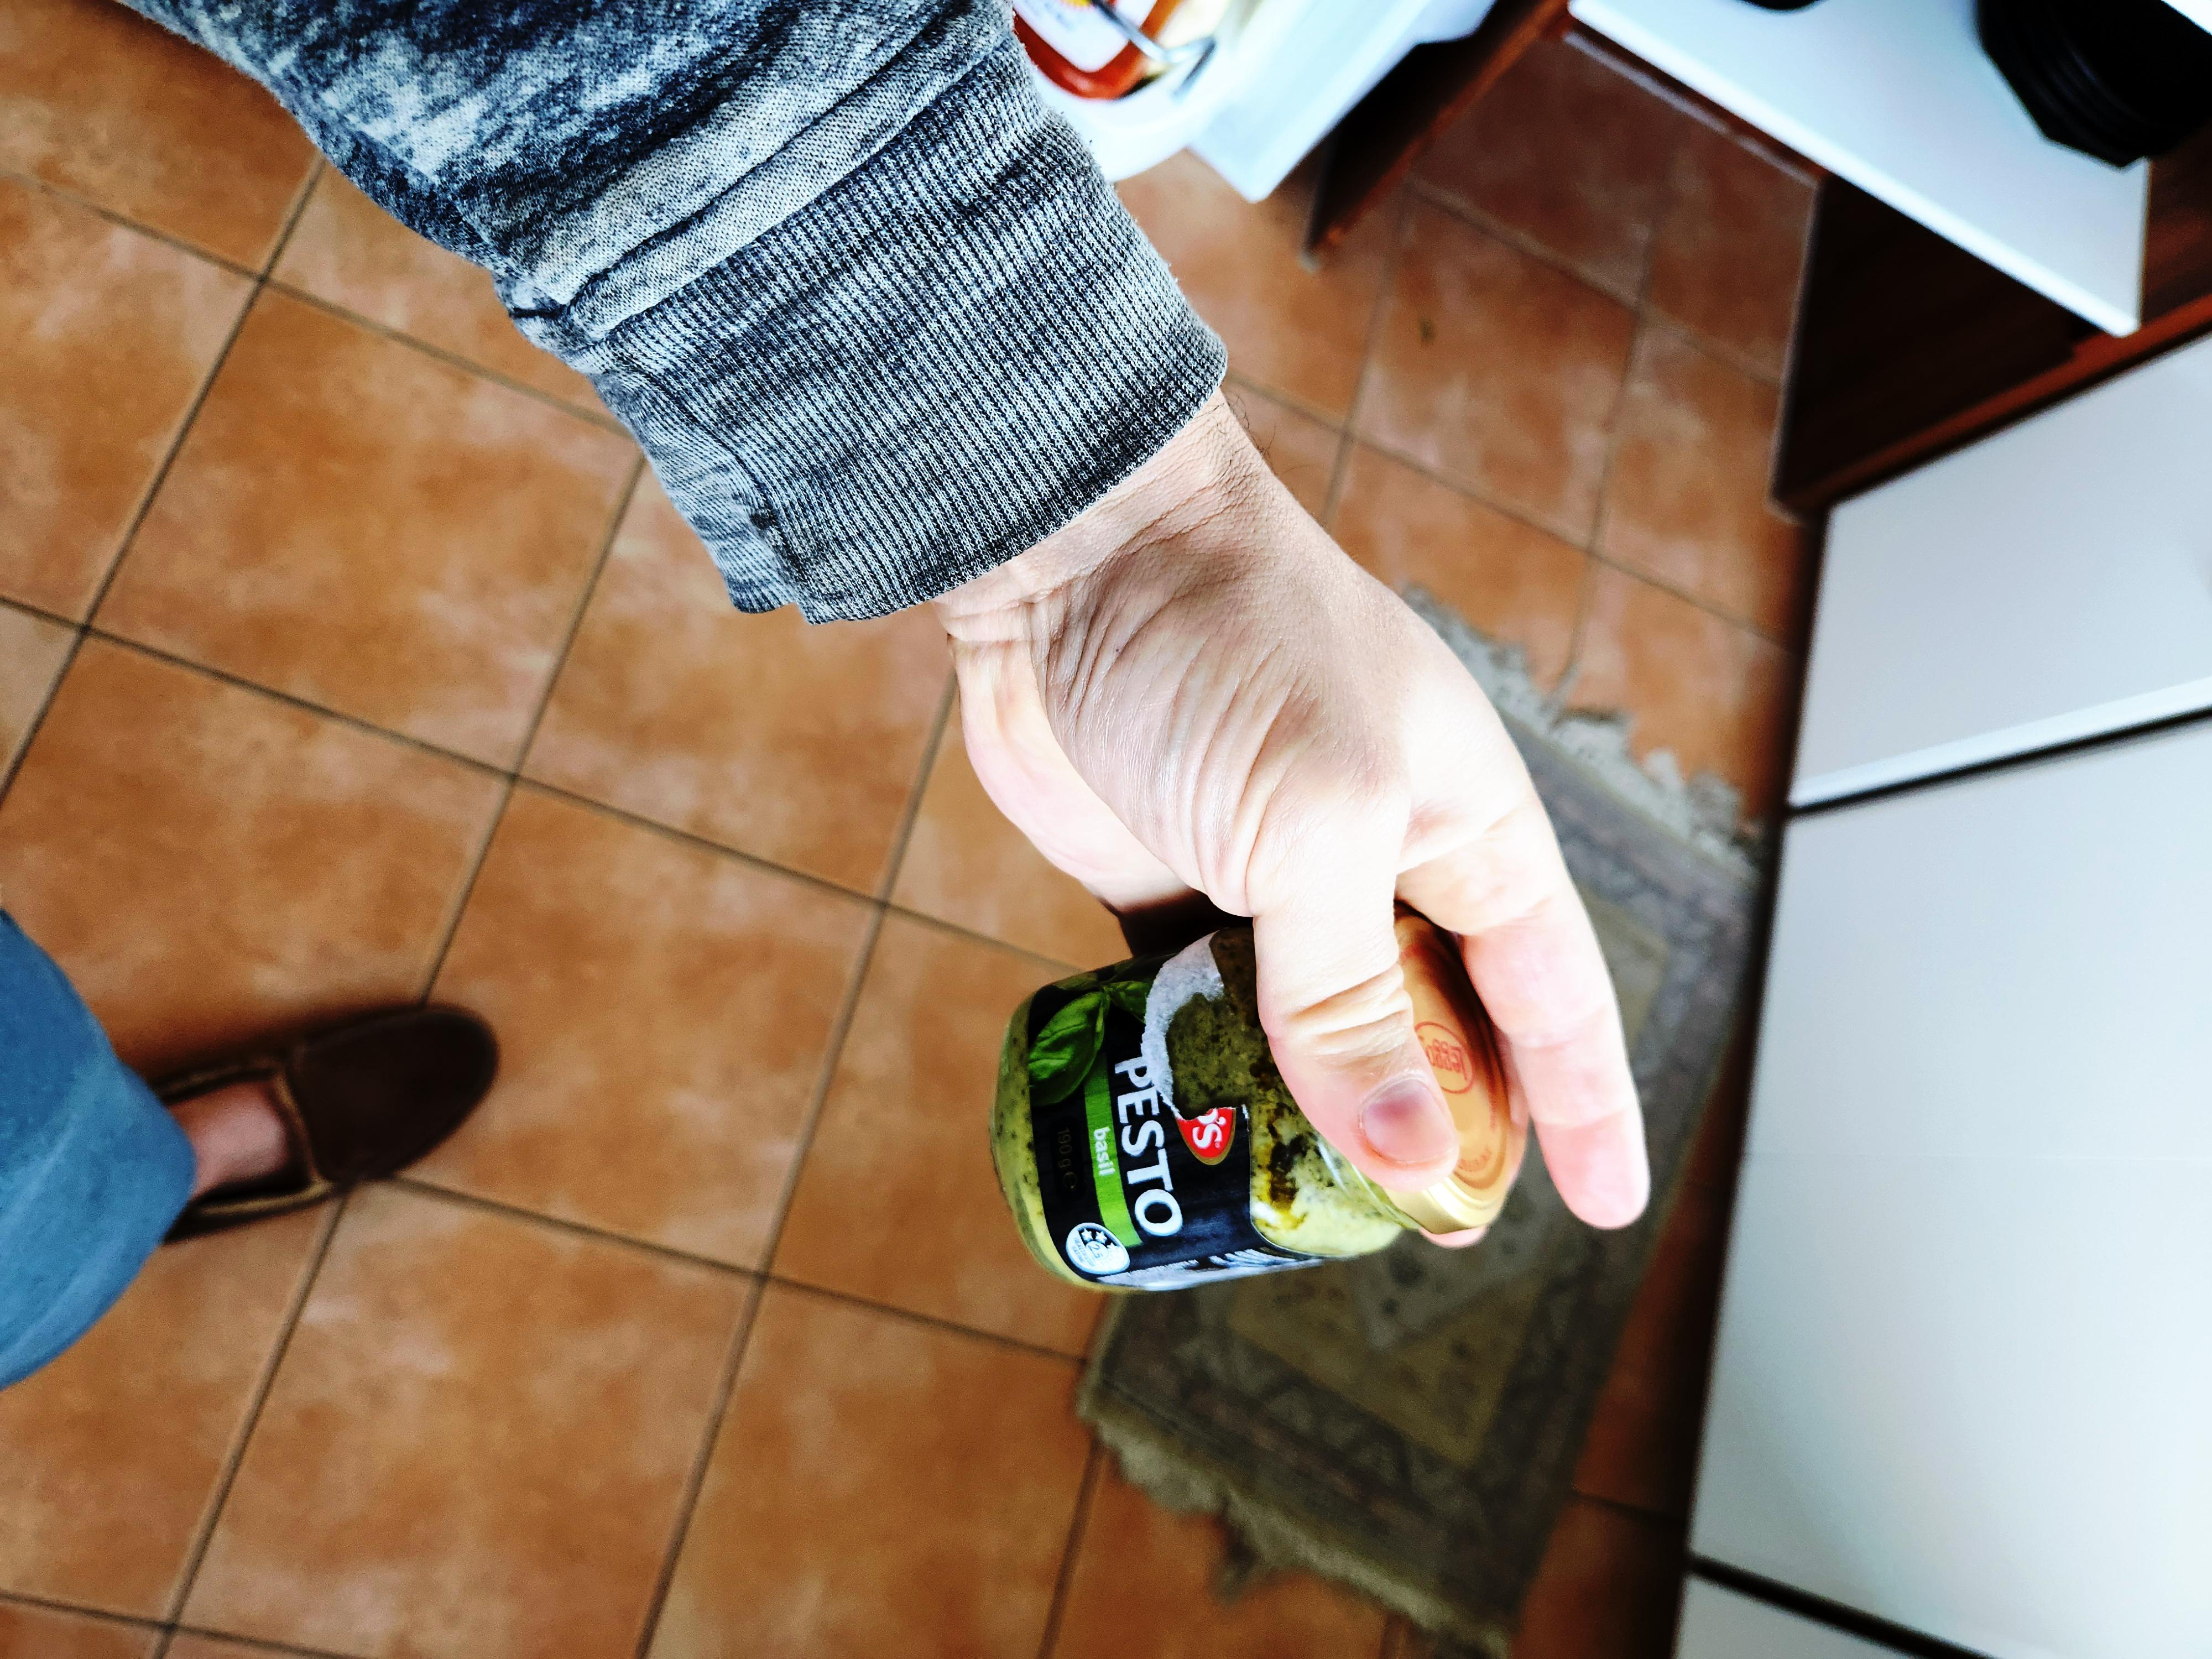basil pesto: (1001, 903, 1519, 1295)
